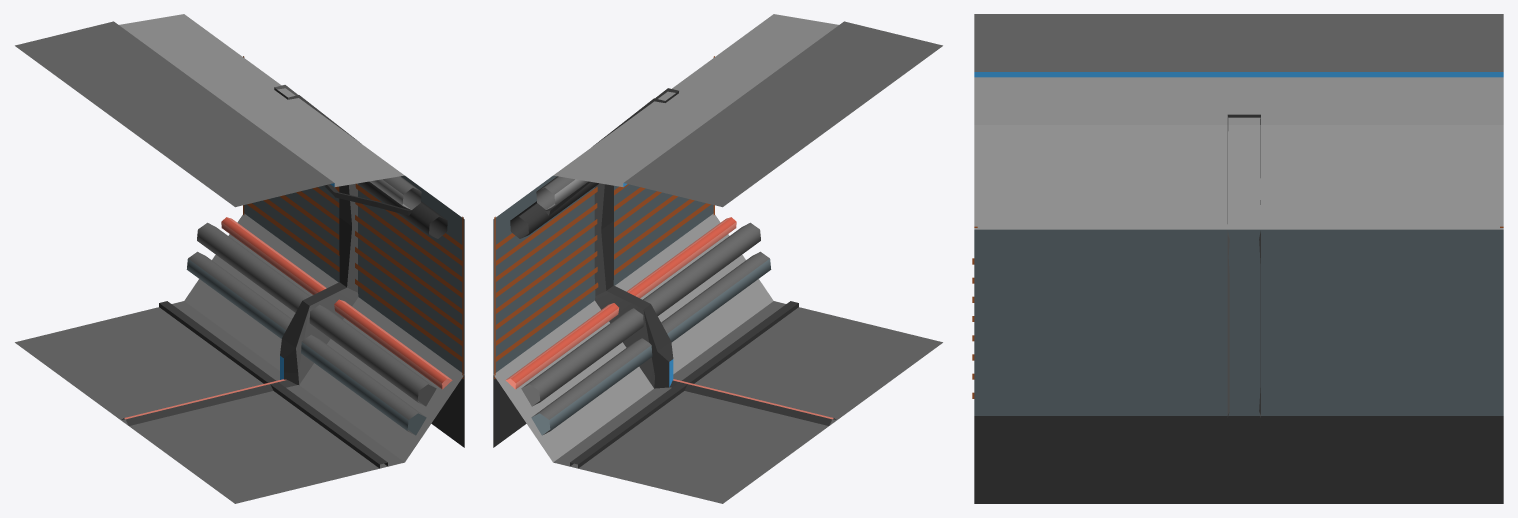
The model's file is Half_Straight_SciFi_Tunnel.fbx.
The picture shows the model from 3 angles, left to right: view 1: azimuth 30°, elevation 25°; view 2: azimuth 150°, elevation 25°; view 3: azimuth 270°, elevation 25°; orthographic projection. The views are drawn at different scales.
Parts seen in each view (by area): view 1: Half_Straight_SciFi_Tunnel, Half_Straight_SciFi_Tunnel_Ceiling, Half_Straight_SciFi_Tunnel_East; view 2: Half_Straight_SciFi_Tunnel, Half_Straight_SciFi_Tunnel_Ceiling, Half_Straight_SciFi_Tunnel_East; view 3: Half_Straight_SciFi_Tunnel_East, Half_Straight_SciFi_Tunnel_Ceiling, Half_Straight_SciFi_Tunnel.
Part boxes in pixels (bbox=[...]): Half_Straight_SciFi_Tunnel: bbox=[15, 213, 464, 503]; Half_Straight_SciFi_Tunnel_Ceiling: bbox=[15, 14, 404, 207]; Half_Straight_SciFi_Tunnel_East: bbox=[243, 56, 464, 384]; Half_Straight_SciFi_Tunnel: bbox=[493, 213, 942, 503]; Half_Straight_SciFi_Tunnel_Ceiling: bbox=[553, 14, 942, 207]; Half_Straight_SciFi_Tunnel_East: bbox=[493, 56, 714, 388]; Half_Straight_SciFi_Tunnel_East: bbox=[972, 114, 1503, 417]; Half_Straight_SciFi_Tunnel_Ceiling: bbox=[974, 14, 1503, 124]; Half_Straight_SciFi_Tunnel: bbox=[974, 416, 1503, 503].
Size of the model in its own units: 304 by 372 by 502.
